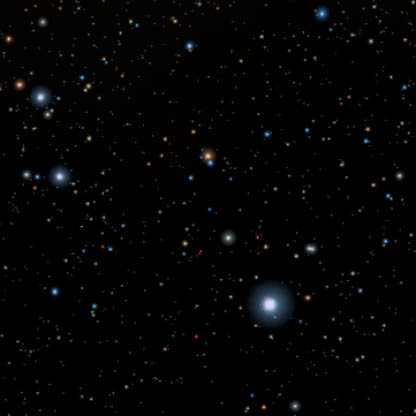Lyra: (252, 281, 290, 323), (27, 82, 56, 108), (191, 139, 216, 166), (48, 164, 71, 190), (215, 222, 236, 249), (305, 233, 322, 255)
